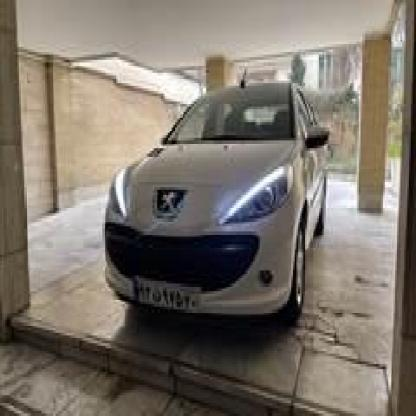Car: (100, 75, 334, 318)
